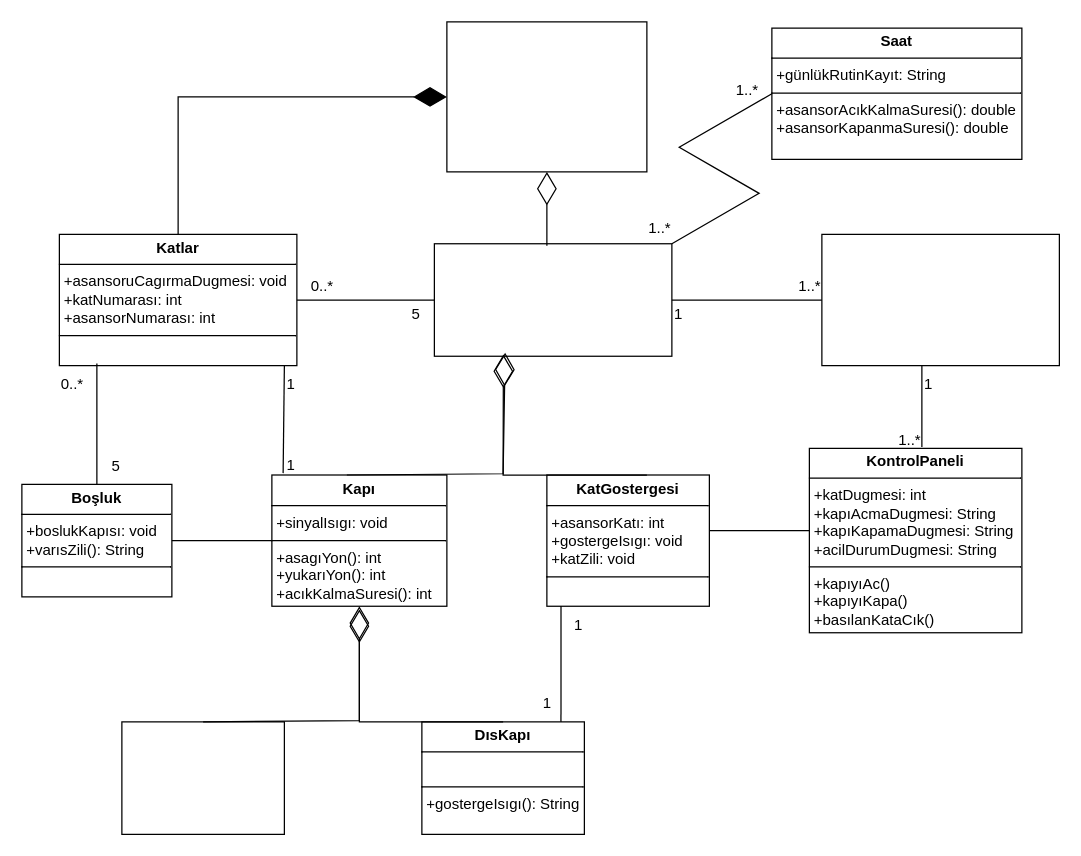
This 1081x856 diagram has some shape labels left out. Here are the shapes that lost their labels. From the top down, the centre of each, then its label:
pixel 546 96: Bina +katSayısı: int +binaSayısı: int +asansörSayısı: int +merdivenSayısı: int
pixel 552 299: Asansor +kapasite: void +enerjiTasarrufu: void
pixel 940 299: Yolcu +mevcutKat: int +asancorCagırma(): void +mevcutAsansorKatı(): int
pixel 202 777: IcKapı
